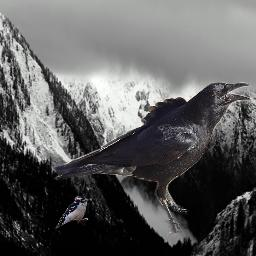Crow: (53, 81, 252, 236)
Woodpecker: (56, 196, 90, 229)
